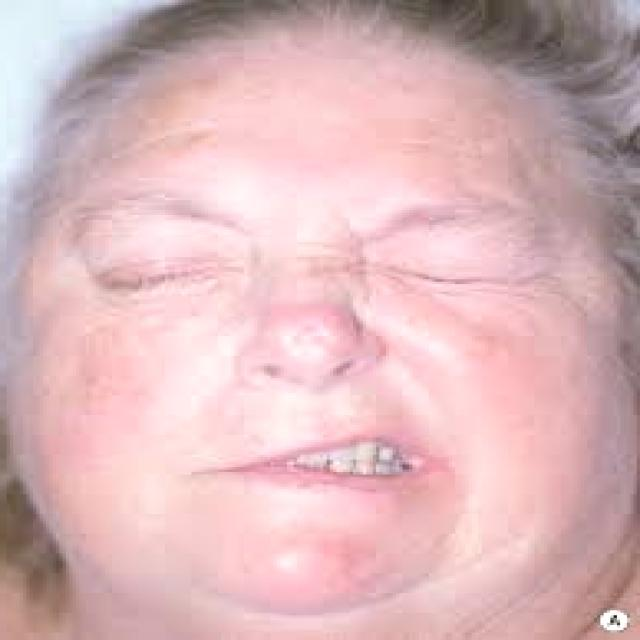stroke_face: (22, 15, 640, 587)
